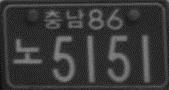1: (84, 33, 98, 85), (140, 33, 152, 83)
5: (106, 34, 131, 84), (52, 35, 75, 82)
6: (106, 8, 124, 31)
8: (88, 8, 104, 31)
노: (12, 37, 43, 65)
충남_O: (42, 8, 85, 29)
